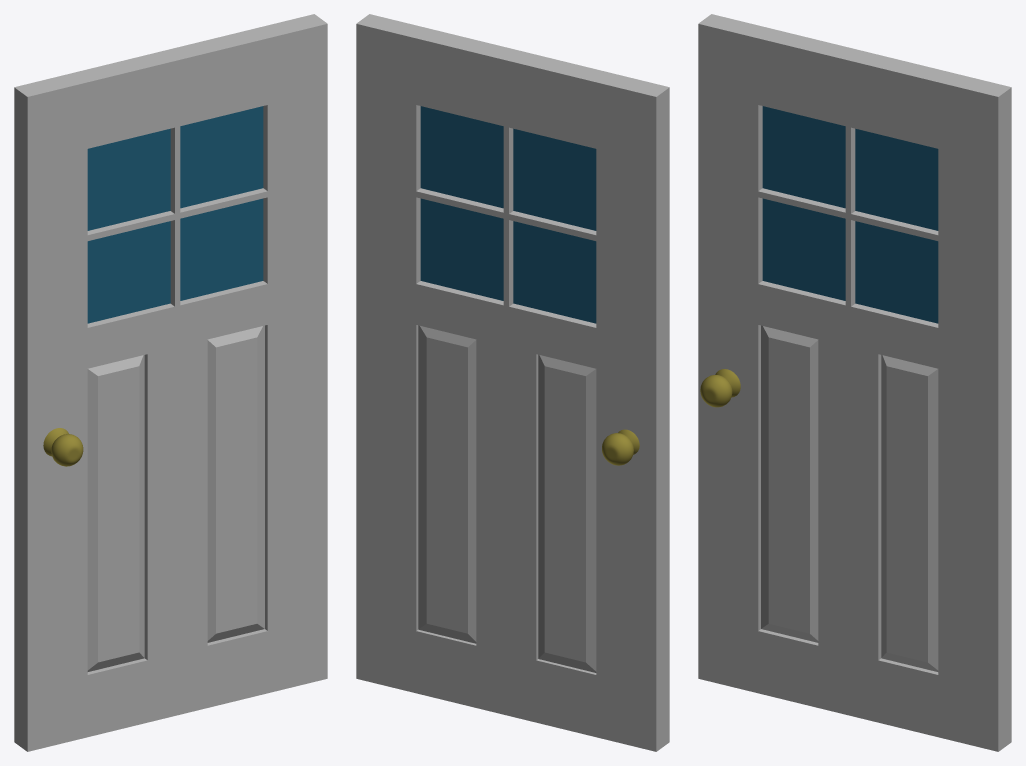
File: panelDoor.dae
3 views of the same model, side by side, from view 1: azimuth 30°, elevation 25°; view 2: azimuth 150°, elevation 25°; view 3: azimuth 330°, elevation 25° (orthographic).
Visible parts, largest first — view 1: Door, window, knob; view 2: Door, window, knob; view 3: Door, window, knob.
Part boxes in pixels (left/top/right/bottom): Door: left=14, top=14, right=327, bottom=751; window: left=87, top=106, right=263, bottom=323; knob: left=51, top=434, right=83, bottom=466; Door: left=356, top=14, right=669, bottom=751; window: left=420, top=106, right=596, bottom=323; knob: left=602, top=433, right=633, bottom=465; Door: left=698, top=14, right=1011, bottom=751; window: left=762, top=106, right=938, bottom=323; knob: left=700, top=375, right=732, bottom=407.
Bounding box in the file's own units: 2.33 × 4.85 × 0.626.
